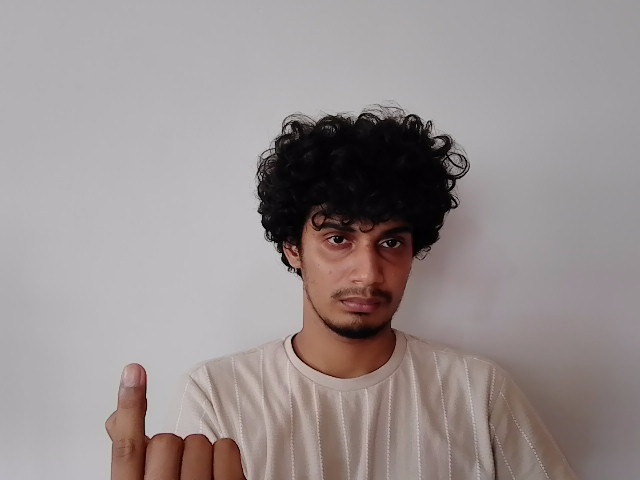just: (99, 359, 250, 480)
